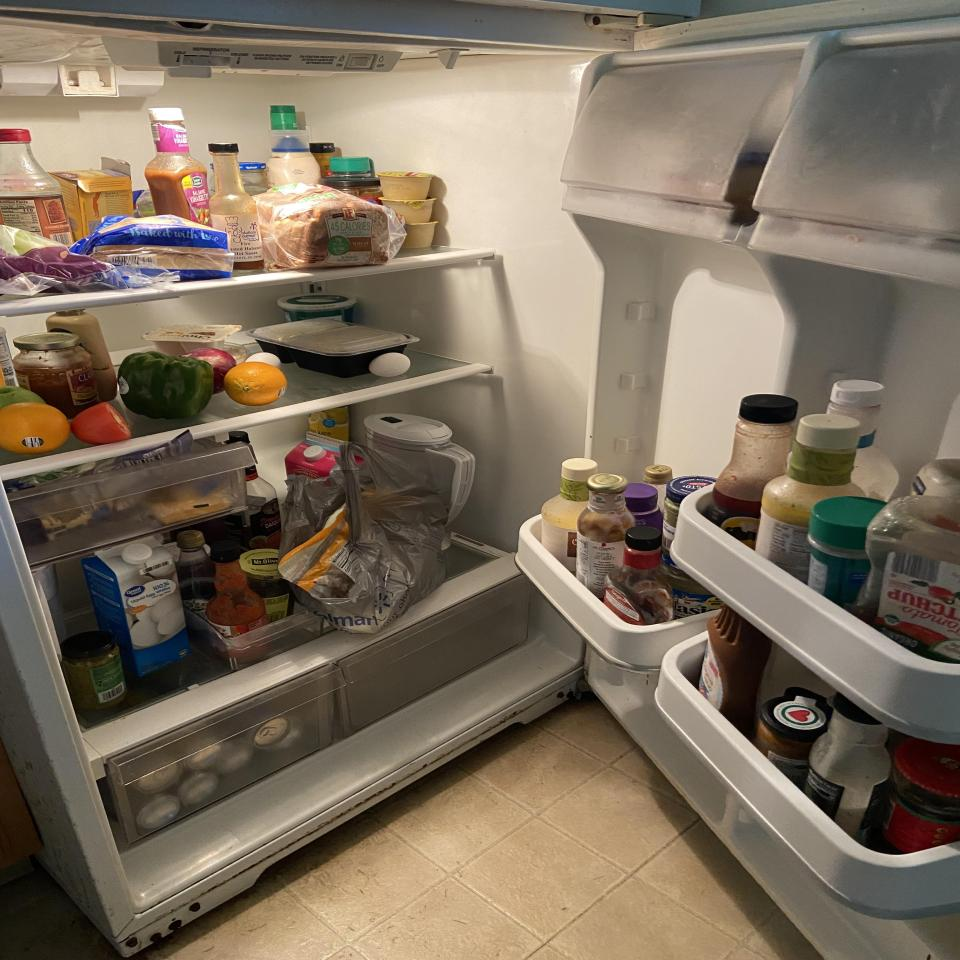Huevos: (368, 352, 411, 379), (246, 352, 281, 367)
Leche: (84, 548, 192, 670)
Limón: (0, 401, 69, 456), (225, 364, 288, 406)
Tomate: (72, 403, 132, 444)
bell pepper: (113, 352, 212, 420)
